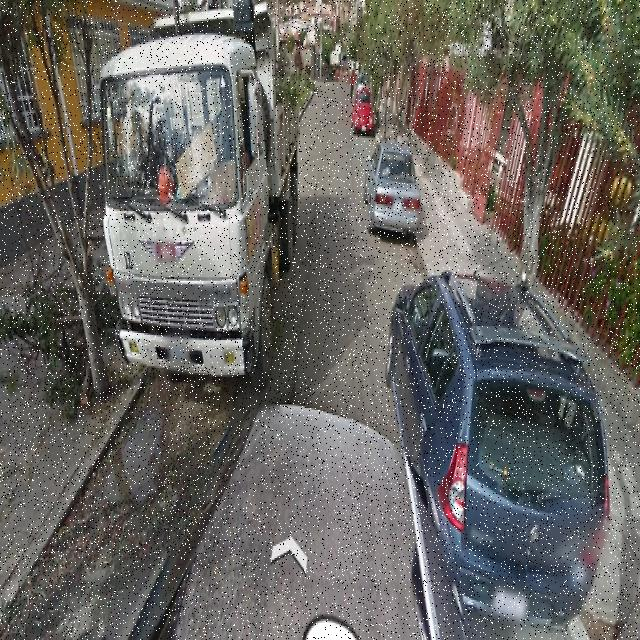cars: (390, 267, 598, 621), (101, 31, 305, 389), (368, 143, 421, 246), (344, 85, 378, 131)
